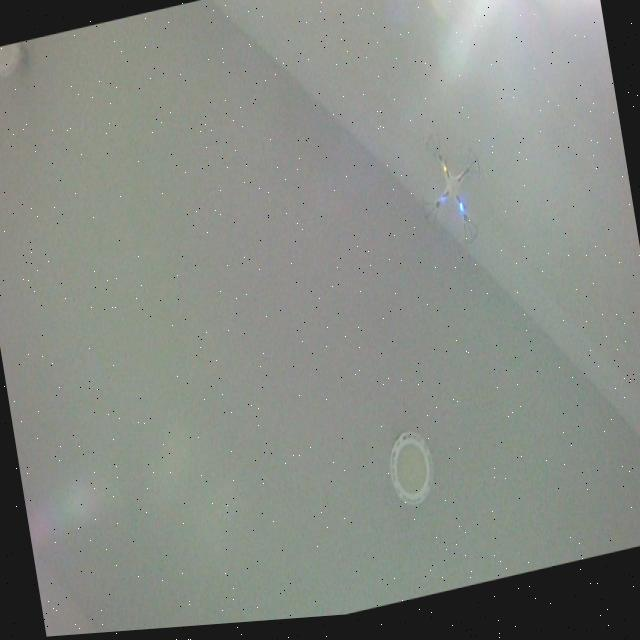drone: (406, 126, 493, 263)
